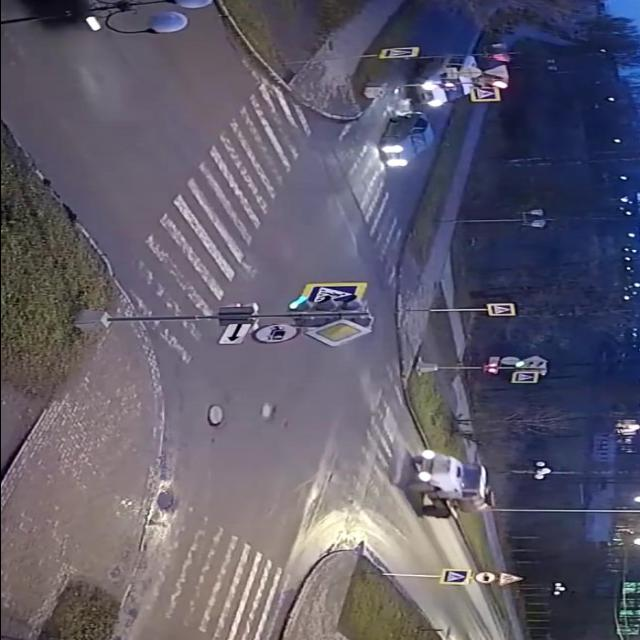non_accident: (362, 50, 490, 174)
